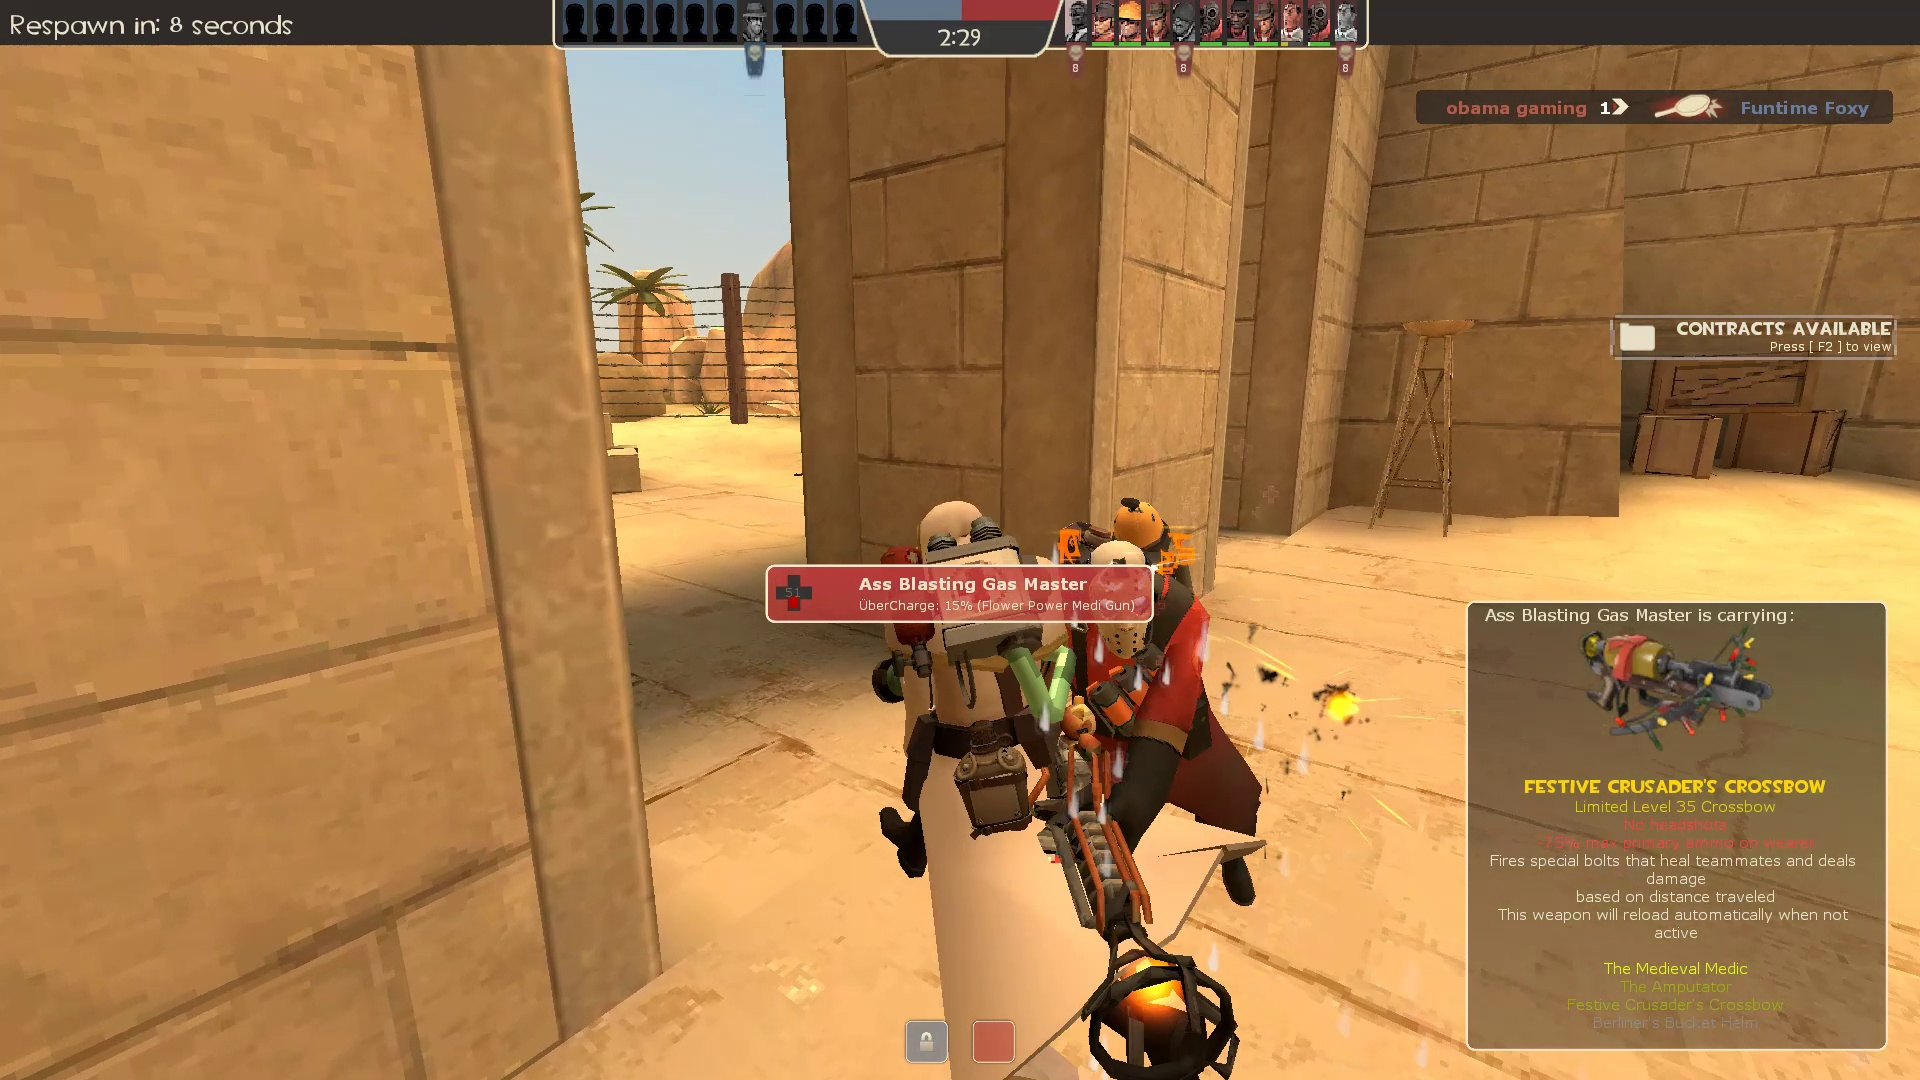red_medic: (856, 498, 1182, 1080)
red_pyro: (1013, 496, 1286, 936)
